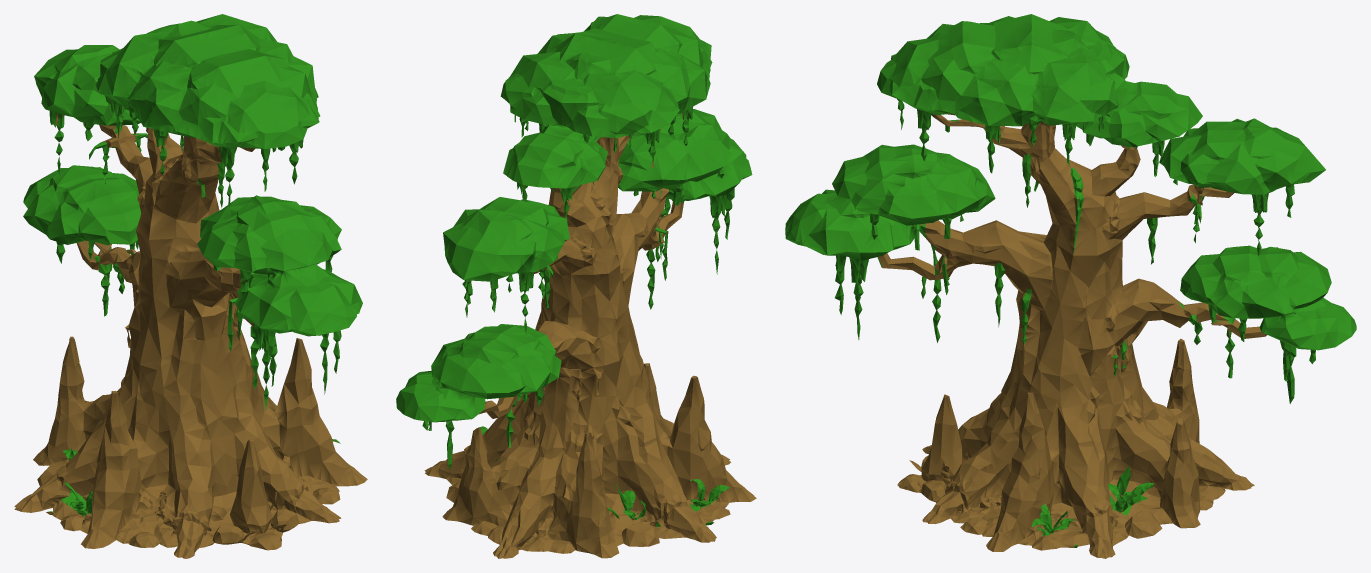
The model's file is tree.glb.
The picture shows the model from 3 angles, left to right: view 1: azimuth 30°, elevation 25°; view 2: azimuth 150°, elevation 25°; view 3: azimuth 270°, elevation 25°; orthographic projection. The views are drawn at different scales.
Parts seen in each view (by area): view 1: tripo_node_69063aa5-8eff-4471-b9f4-459a0ca04de7; view 2: tripo_node_69063aa5-8eff-4471-b9f4-459a0ca04de7; view 3: tripo_node_69063aa5-8eff-4471-b9f4-459a0ca04de7.
Part boxes in pixels (x1,y1,x2,y2): tripo_node_69063aa5-8eff-4471-b9f4-459a0ca04de7: (14, 14, 367, 558); tripo_node_69063aa5-8eff-4471-b9f4-459a0ca04de7: (396, 14, 756, 558); tripo_node_69063aa5-8eff-4471-b9f4-459a0ca04de7: (785, 14, 1356, 558).
Bounding box in the file's own units: 14.18 × 20.48 × 23.24.
